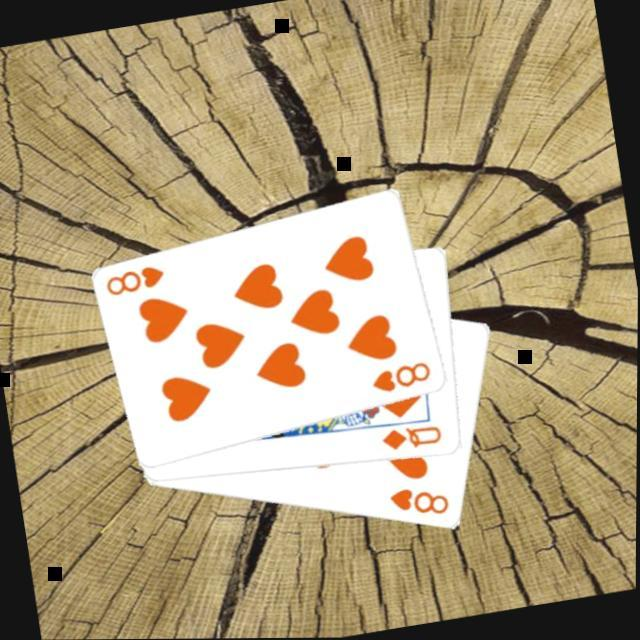8H: (385, 477, 454, 525), (366, 356, 436, 396), (101, 258, 169, 298)
QD: (376, 416, 446, 454)
